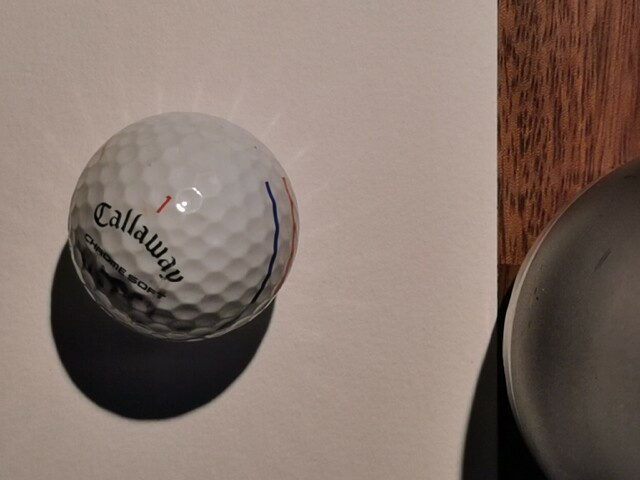Ball: (68, 112, 300, 343)
Callaway: (94, 202, 185, 283)
